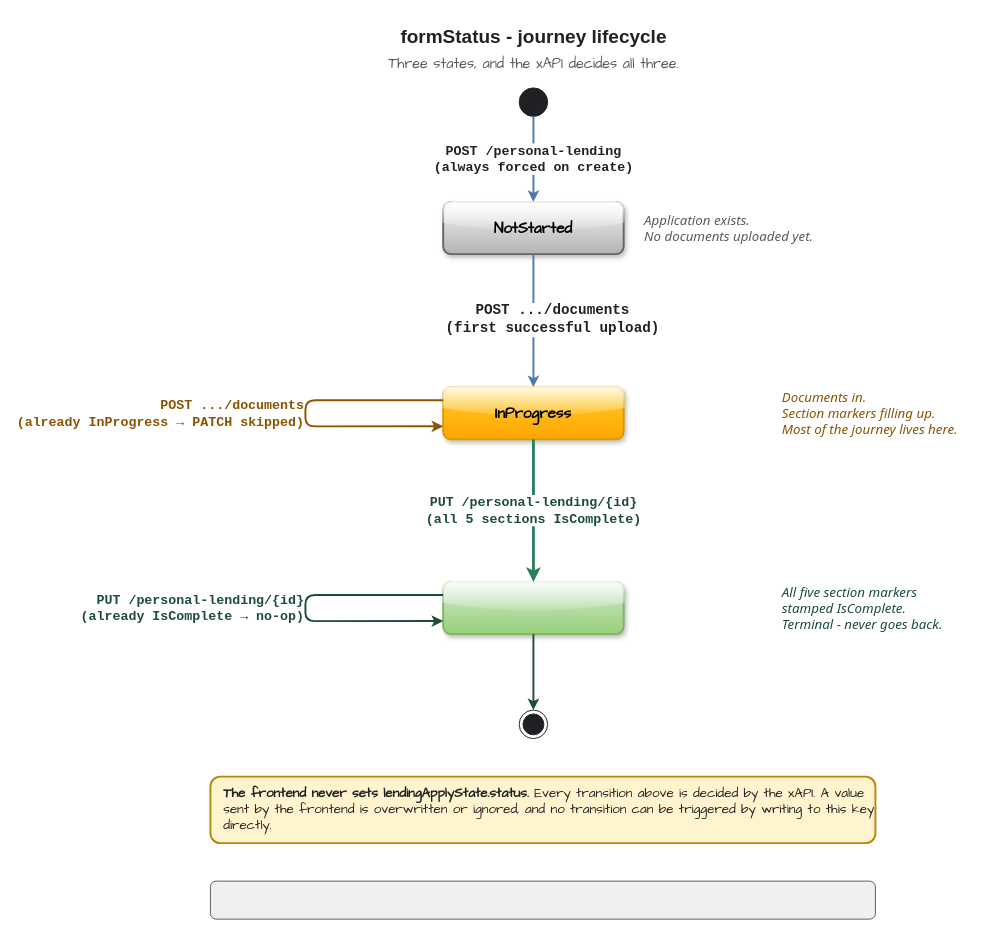
Image size: 986x936. Some labels were removed from this diagram. Each missing label, with the centre of its shape:
IsComplete: point (534, 609)
Wire values are case sensitive: "NotStarted" | "InProgress" | "IsComplete": point (542, 899)
